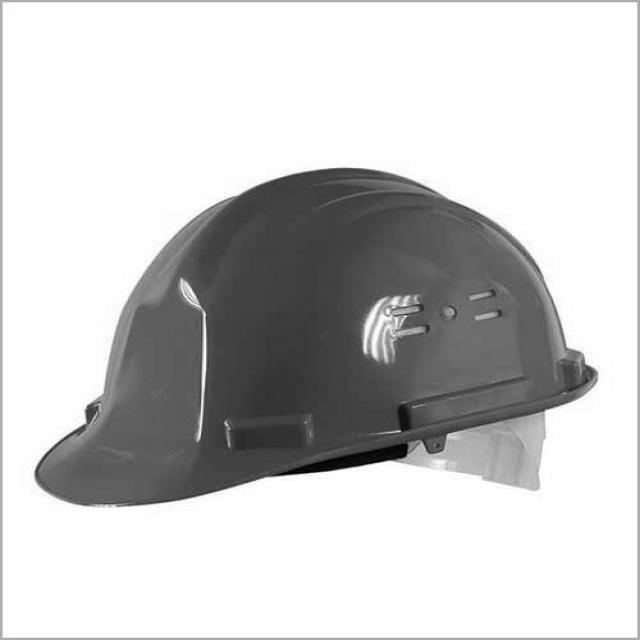construction helmet: (35, 168, 599, 510)
